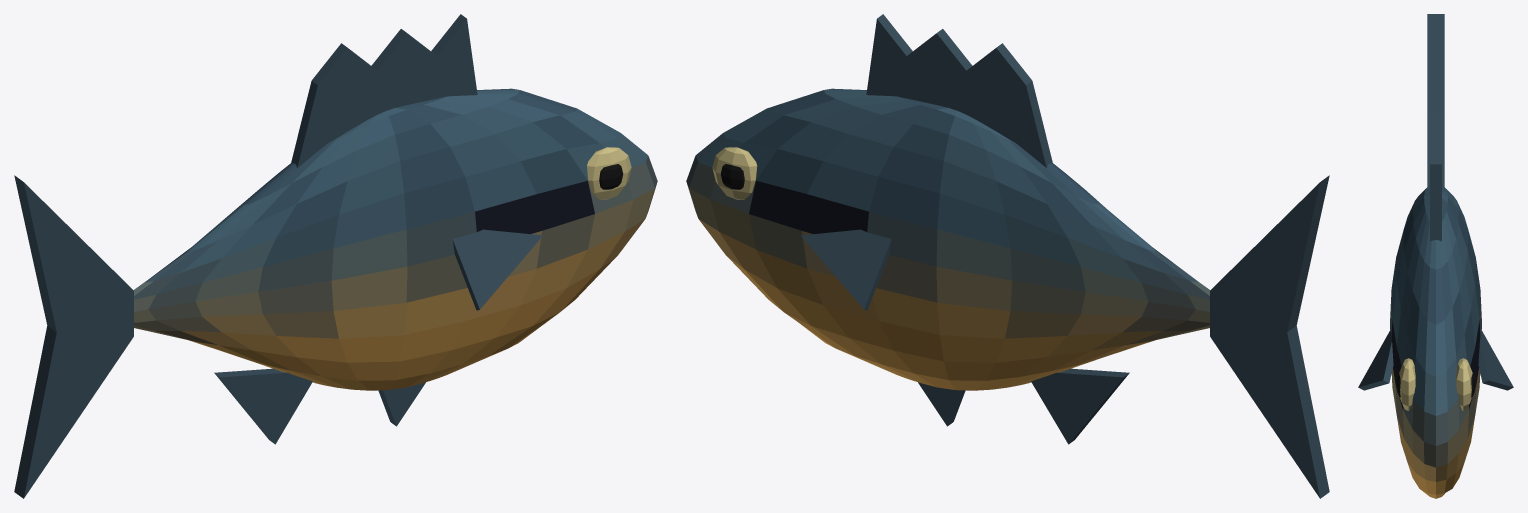
Rendered from Bluegill.glb.
The picture shows the model from 3 angles, left to right: view 1: azimuth 30°, elevation 25°; view 2: azimuth 150°, elevation 25°; view 3: azimuth 270°, elevation 25°; orthographic projection. The views are drawn at different scales.
Visible parts, largest first — view 1: Bluegill; view 2: Bluegill; view 3: Bluegill.
Boxes of the visible parts, x1,y1,x2,y2 form: Bluegill: (14, 14, 657, 498); Bluegill: (686, 14, 1329, 498); Bluegill: (1358, 14, 1513, 498).
Bounding box in the file's own units: 1.79 × 1.05 × 0.4114.
